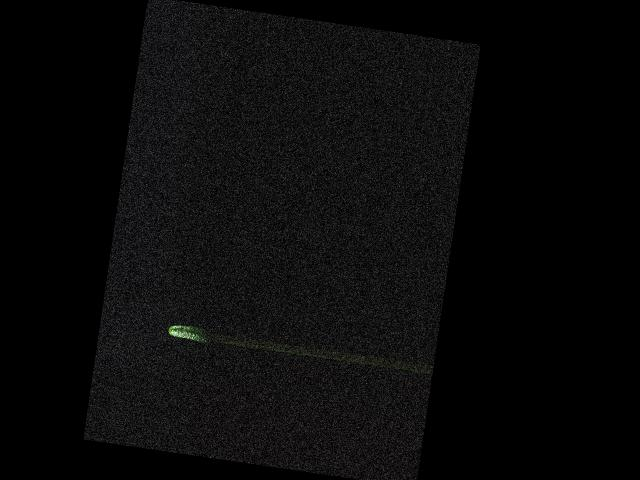cucumber: (167, 323, 210, 343)
